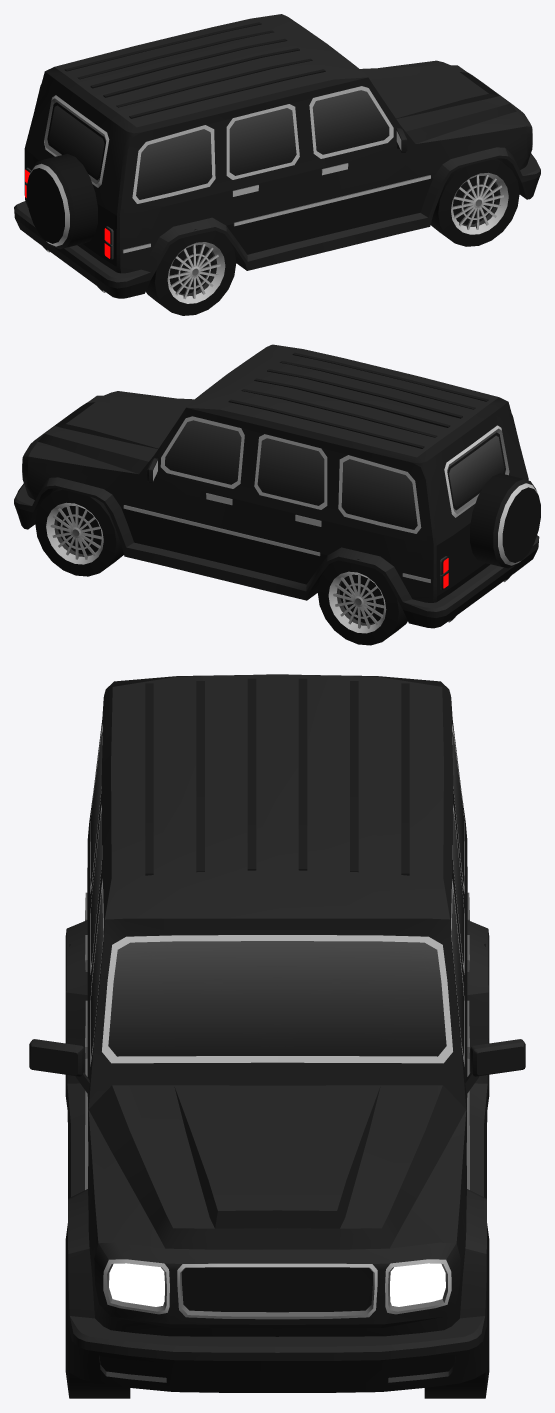
Rendered from Car_034.glb.
3 renders of one model, top to bottom at view 1: azimuth 30°, elevation 25°; view 2: azimuth 150°, elevation 25°; view 3: azimuth 270°, elevation 25°, orthographic. The views are drawn at different scales.
Parts seen in each view (by area): view 1: Car_034, wheel_1_Car_034_Wheel_1R, wheel_3_Car_034_Wheel_2R; view 2: Car_034, wheel_0_Car_034_Wheel_1L, wheel_2_Car_034_Wheel_2L; view 3: Car_034, wheel_0_Car_034_Wheel_1L, wheel_1_Car_034_Wheel_1R.
Boxes of the visible parts, x1,y1,x2,y2 form: Car_034: (14, 14, 540, 298); wheel_1_Car_034_Wheel_1R: (430, 158, 519, 246); wheel_3_Car_034_Wheel_2R: (146, 229, 236, 315); Car_034: (14, 344, 540, 628); wheel_0_Car_034_Wheel_1L: (35, 488, 123, 576); wheel_2_Car_034_Wheel_2L: (317, 559, 407, 645); Car_034: (29, 674, 525, 1392); wheel_0_Car_034_Wheel_1L: (424, 1223, 489, 1398); wheel_1_Car_034_Wheel_1R: (65, 1223, 130, 1398).
Bounding box in the file's own units: 4.57 × 1.86 × 2.12.
2 materials, 2 textured.
